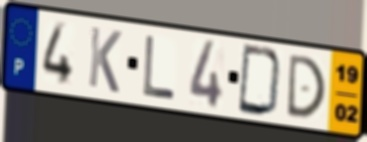4: (187, 38, 226, 111), (41, 21, 76, 88)
D: (236, 41, 285, 119), (285, 52, 328, 120)
K: (86, 24, 124, 96)
L: (141, 33, 177, 102)
